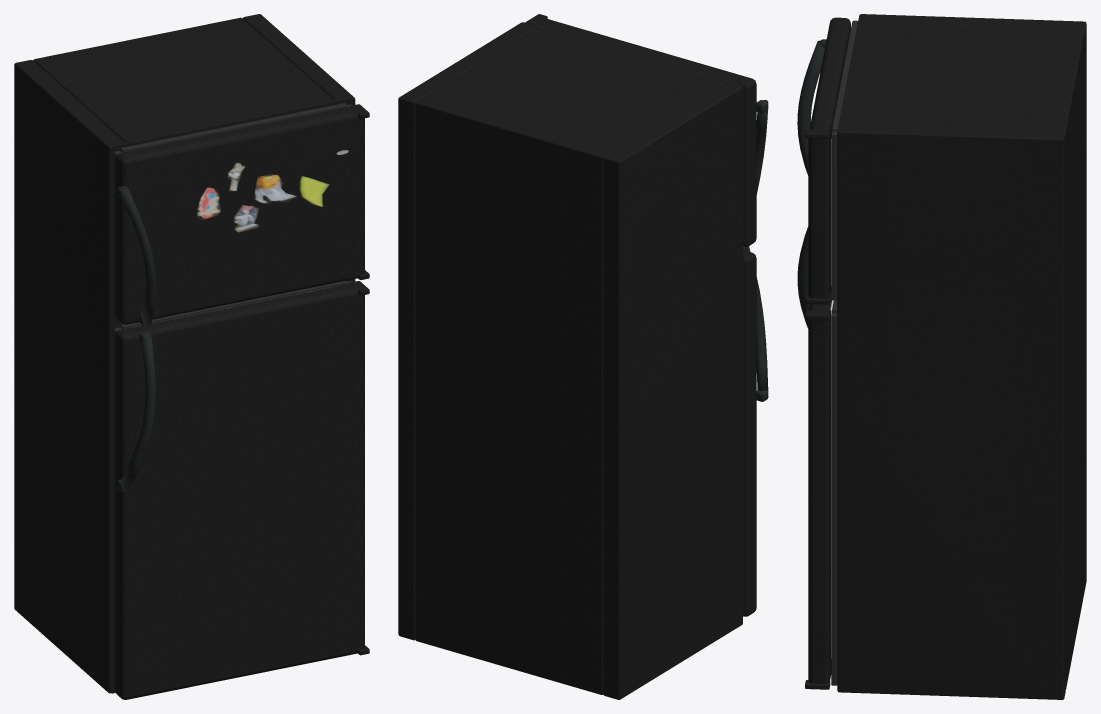
3 renders of one model, left to right at view 1: azimuth 30°, elevation 25°; view 2: azimuth 150°, elevation 25°; view 3: azimuth 270°, elevation 25°, orthographic. The views are drawn at different scales.
Visible parts, largest first — view 1: main_outer_skin, shell_left, freezer_outer_skin, shell_top, magnet_decals, shell_right, shell_back, main_bow_handle, freezer_bow_handle, freezer_gasket_cross.001, main_gasket_side, sealing_cross.002 (+1 smaller); view 2: shell_back, shell_left, shell_top, shell_right, main_outer_skin, freezer_outer_skin, main_bow_handle, freezer_bow_handle; view 3: shell_right, shell_top, shell_back, main_outer_skin, freezer_outer_skin, shell_left, main_gasket_side.001, freezer_bow_handle, freezer_gasket_side.001, main_bow_handle, freezer_gasket_cross.001, sealing_cross.002.
Part boxes in pixels (x1,y1,x2,y2): main_outer_skin: [115, 283, 364, 699]; shell_left: [14, 60, 125, 693]; freezer_outer_skin: [115, 106, 364, 324]; shell_top: [38, 25, 335, 145]; magnet_decals: [196, 162, 329, 232]; shell_right: [242, 14, 355, 281]; shell_back: [33, 17, 249, 67]; main_bow_handle: [121, 337, 155, 492]; freezer_bow_handle: [121, 191, 155, 326]; freezer_gasket_cross.001: [120, 103, 346, 152]; main_gasket_side: [113, 327, 121, 689]; sealing_cross.002: [126, 100, 336, 146]; shell_back: [415, 95, 613, 694]; shell_left: [603, 82, 742, 699]; shell_top: [427, 28, 723, 153]; shell_right: [398, 22, 535, 640]; main_outer_skin: [743, 250, 756, 616]; freezer_outer_skin: [533, 17, 756, 246]; main_bow_handle: [748, 246, 768, 396]; freezer_bow_handle: [756, 100, 768, 194]; shell_right: [837, 123, 1065, 699]; shell_top: [843, 23, 1063, 130]; shell_back: [1044, 30, 1084, 689]; main_outer_skin: [808, 290, 831, 683]; freezer_outer_skin: [808, 17, 850, 298]; shell_left: [860, 14, 1086, 588]; main_gasket_side.001: [831, 313, 837, 685]; freezer_bow_handle: [797, 40, 824, 175]; freezer_gasket_side.001: [831, 131, 837, 300]; main_bow_handle: [797, 226, 810, 328]; freezer_gasket_cross.001: [832, 21, 857, 131]; sealing_cross.002: [839, 22, 862, 122].
Bounding box in the file's own units: 0.8635 × 1.75 × 0.8158.
15 materials, 4 textured.
